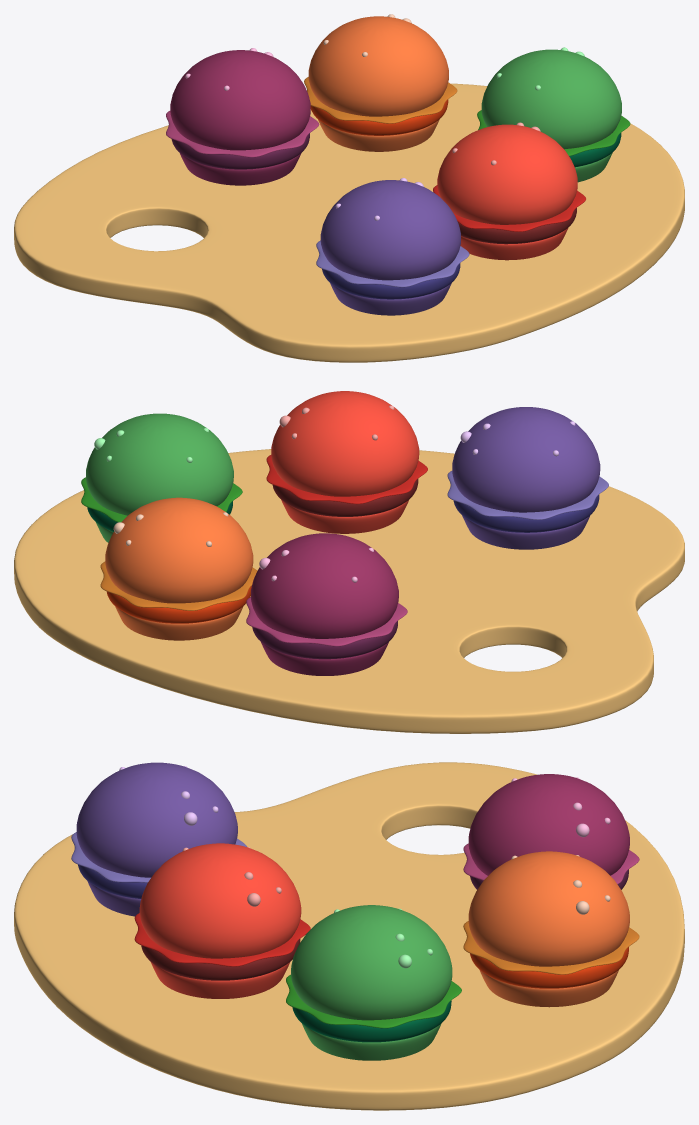
The model's file is PrettyPatty.fbx.
The picture shows the model from 3 angles, top to bottom: view 1: azimuth 30°, elevation 25°; view 2: azimuth 150°, elevation 25°; view 3: azimuth 270°, elevation 25°; orthographic projection. The views are drawn at different scales.
Visible parts, largest first — view 1: Circle.033; view 2: Circle.033; view 3: Circle.033.
Boxes of the visible parts, <box> form: Circle.033: <box>14,14,684,362</box>; Circle.033: <box>14,391,684,733</box>; Circle.033: <box>14,762,684,1110</box>.
Bounding box in the file's own units: 453 × 90.55 × 389.
